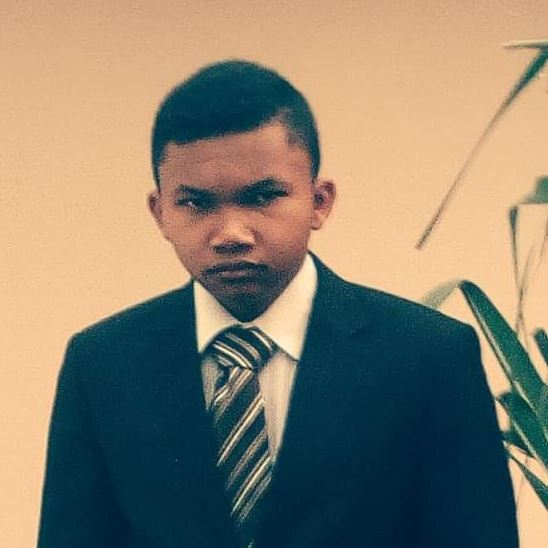BOY: (136, 56, 337, 303)
